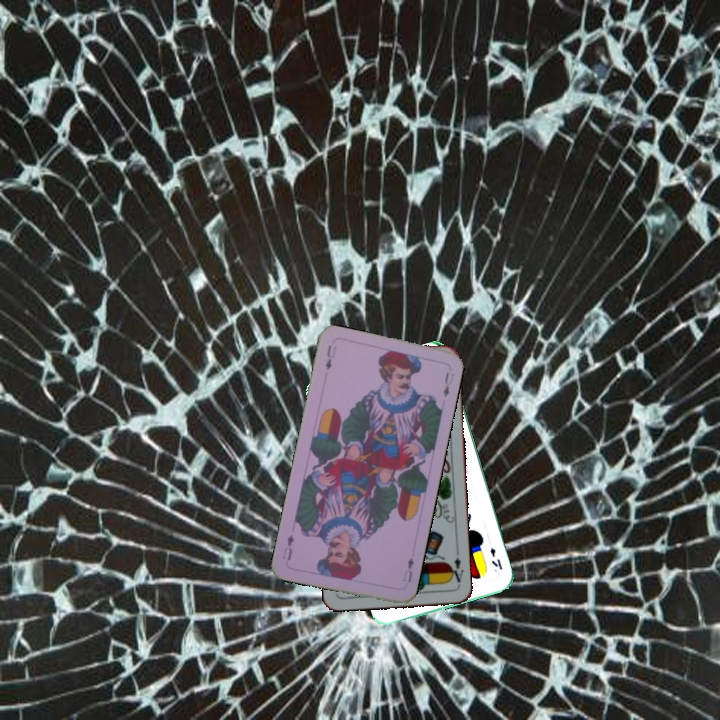EA: (446, 548, 466, 585)
EK: (486, 543, 505, 572)
EU: (321, 341, 339, 372), (399, 553, 416, 585)
